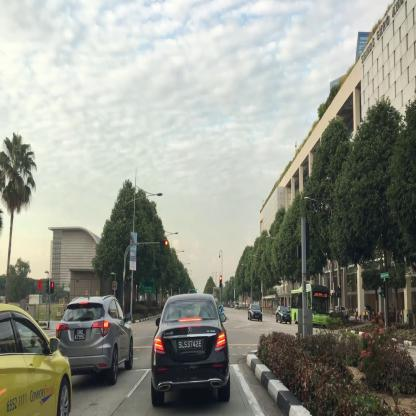red_traffic_light: (160, 240, 167, 245), (219, 276, 221, 287)
